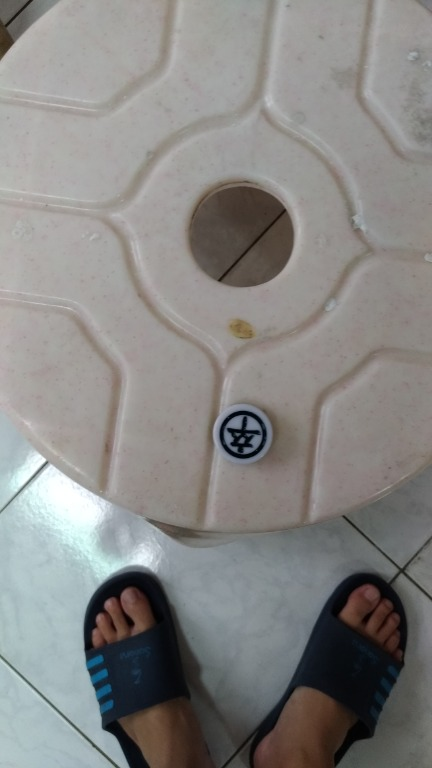b-pawn: (195, 399, 297, 472)
